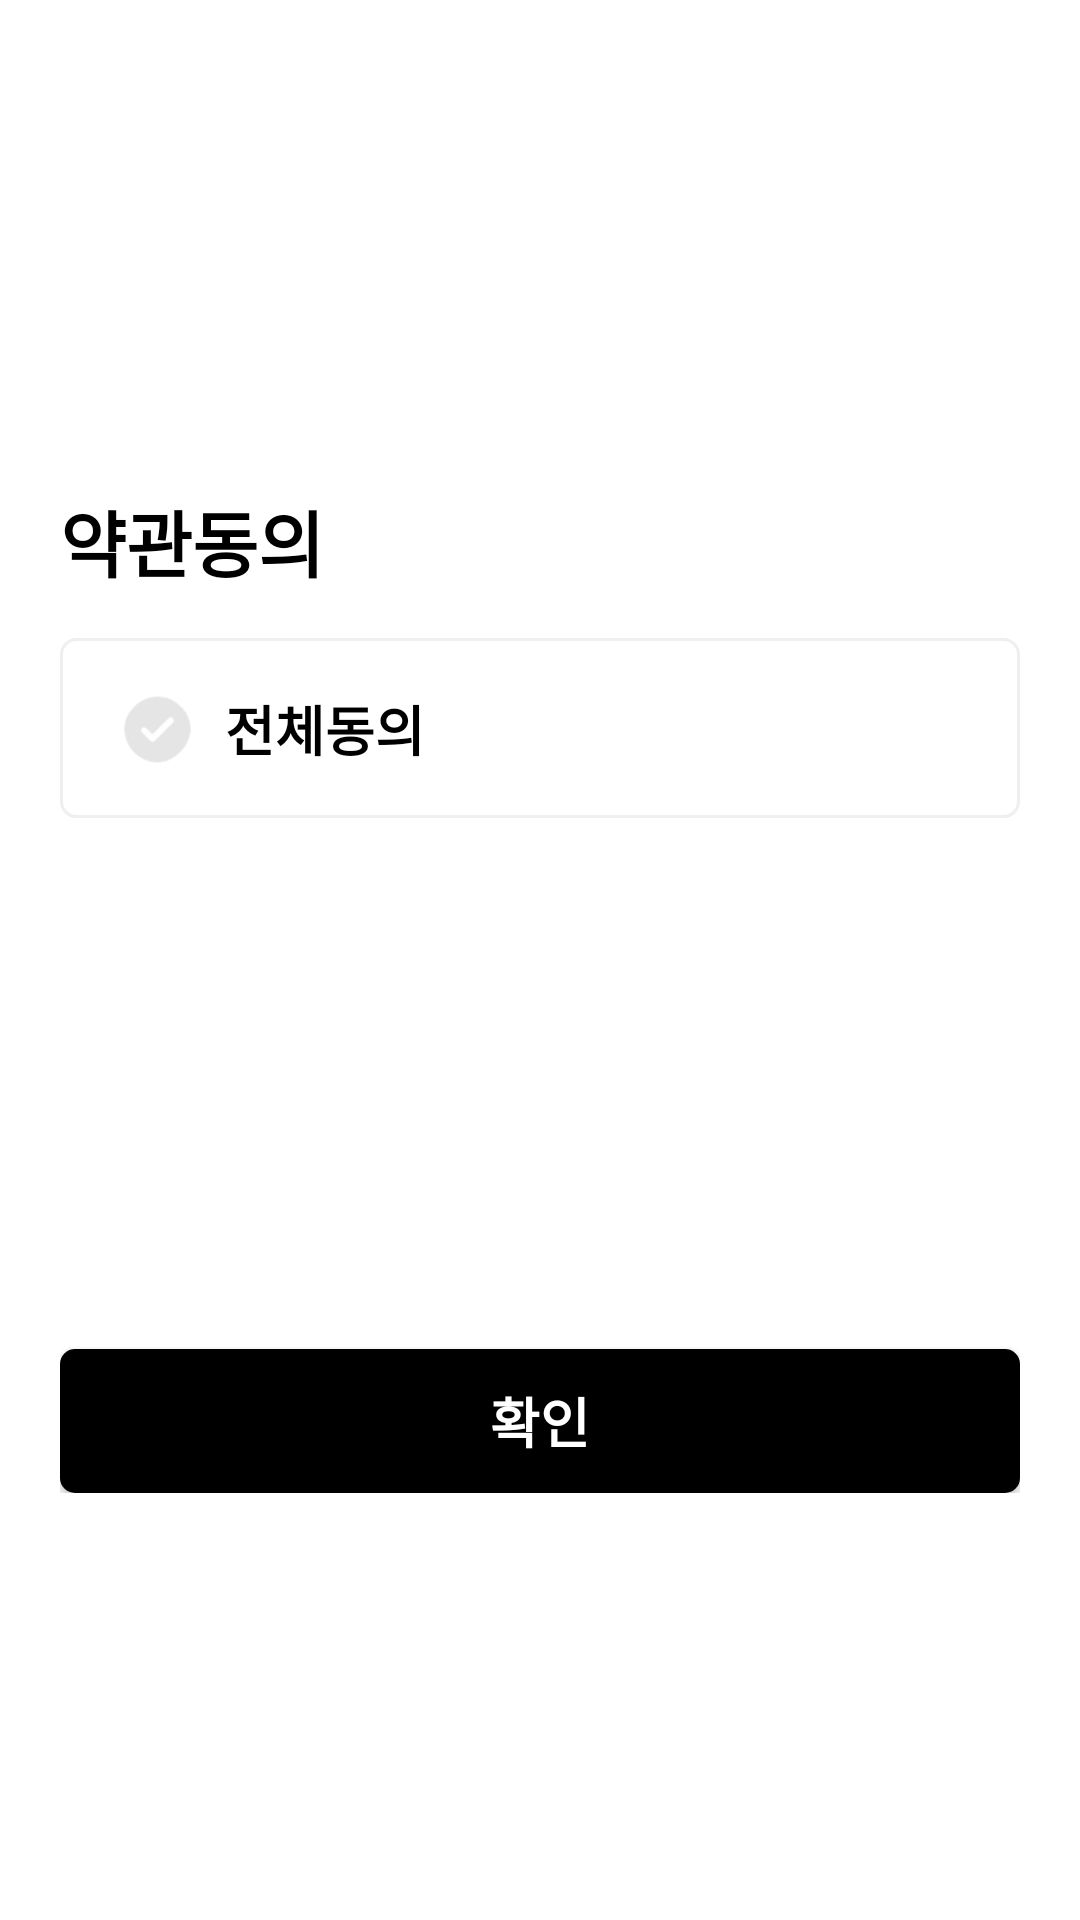

Icons on this 1080w x 1920h Android screen, each with the point to tap as (x=x, y=y):
all unagree: (x=157, y=730)
